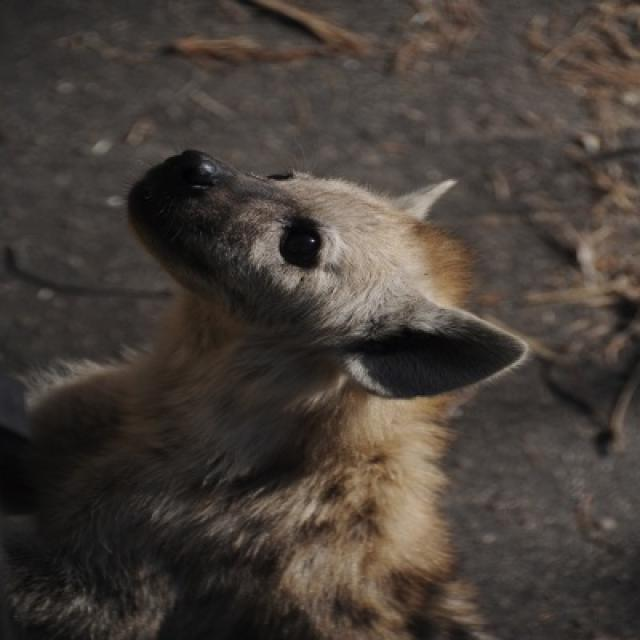hyena: (0, 150, 528, 638)
